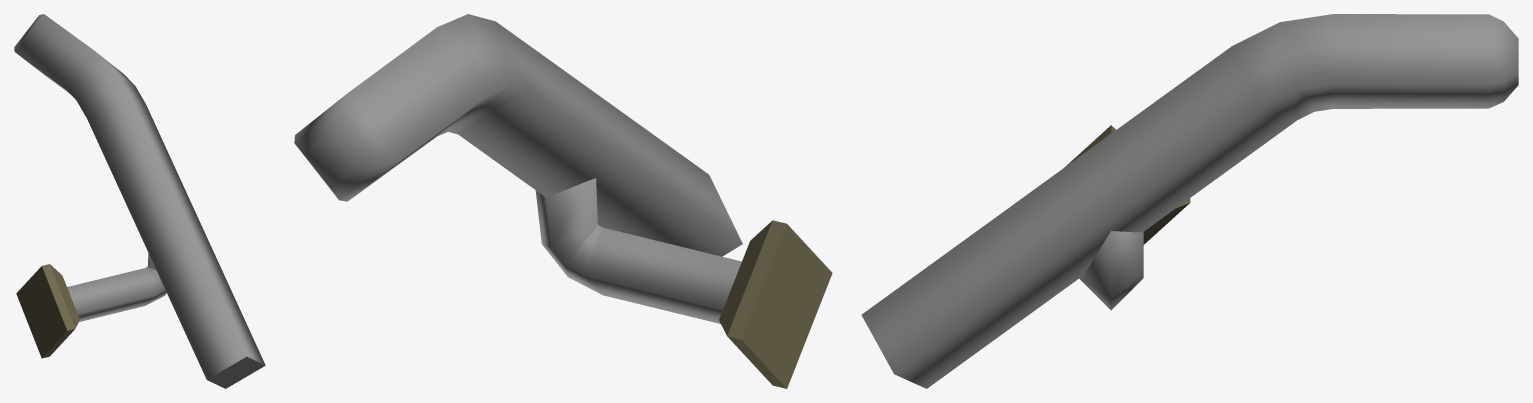
File: SW_ENV_Railing_StairWall_Top.fbx
3 views of the same model, side by side, from view 1: azimuth 30°, elevation 25°; view 2: azimuth 150°, elevation 25°; view 3: azimuth 270°, elevation 25° (orthographic). The views are drawn at different scales.
Parts seen in each view (by area): view 1: SW_ENV_Railing_StairWall_Top; view 2: SW_ENV_Railing_StairWall_Top; view 3: SW_ENV_Railing_StairWall_Top.
Part boxes in pixels (bbox=[...]): SW_ENV_Railing_StairWall_Top: bbox=[14, 14, 265, 388]; SW_ENV_Railing_StairWall_Top: bbox=[294, 14, 832, 388]; SW_ENV_Railing_StairWall_Top: bbox=[861, 14, 1518, 388].
Bounding box in the file's own units: 0.1856 × 0.2793 × 0.4437.
